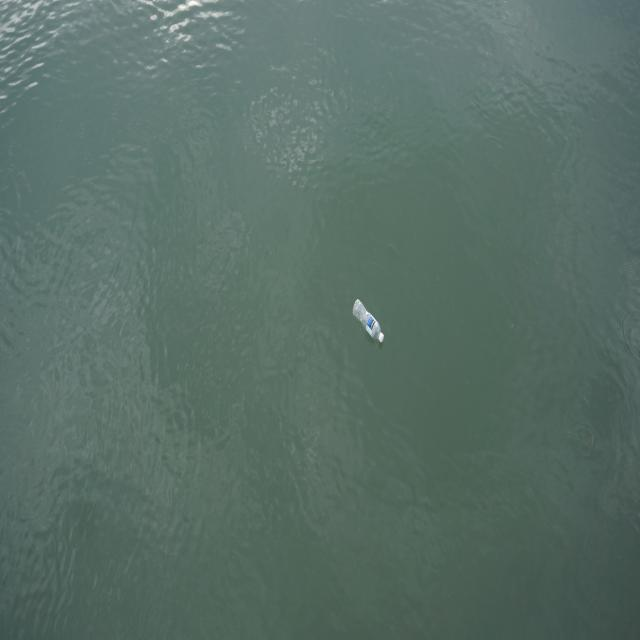Botol Plastik: (352, 295, 388, 350)
